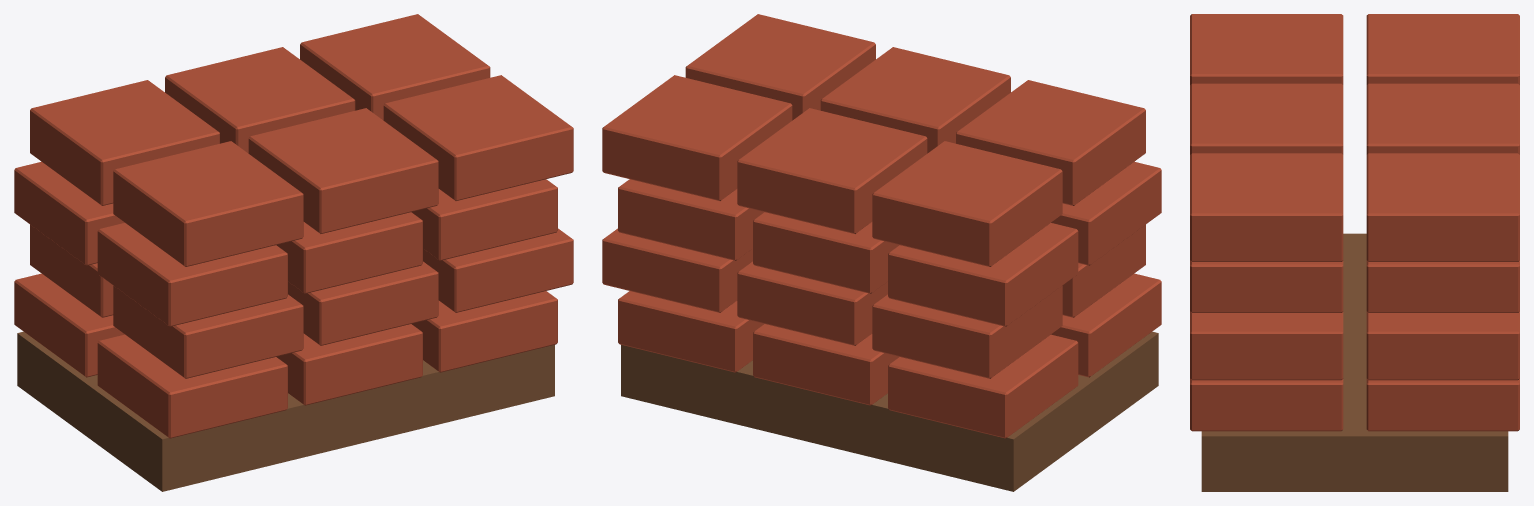
File: brick_stack.glb
The picture shows the model from 3 angles, left to right: view 1: azimuth 30°, elevation 25°; view 2: azimuth 150°, elevation 25°; view 3: azimuth 270°, elevation 25°; orthographic projection. The views are drawn at different scales.
Visible parts, largest first — view 1: brick_stack; view 2: brick_stack; view 3: brick_stack.
Part boxes in pixels (bbox=[...]): brick_stack: bbox=[14, 14, 573, 491]; brick_stack: bbox=[602, 14, 1161, 491]; brick_stack: bbox=[1190, 14, 1519, 491].
Bounding box in the file's own units: 1.29 × 0.82 × 0.86.
